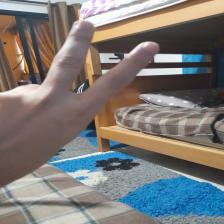two: (10, 22, 160, 160)
